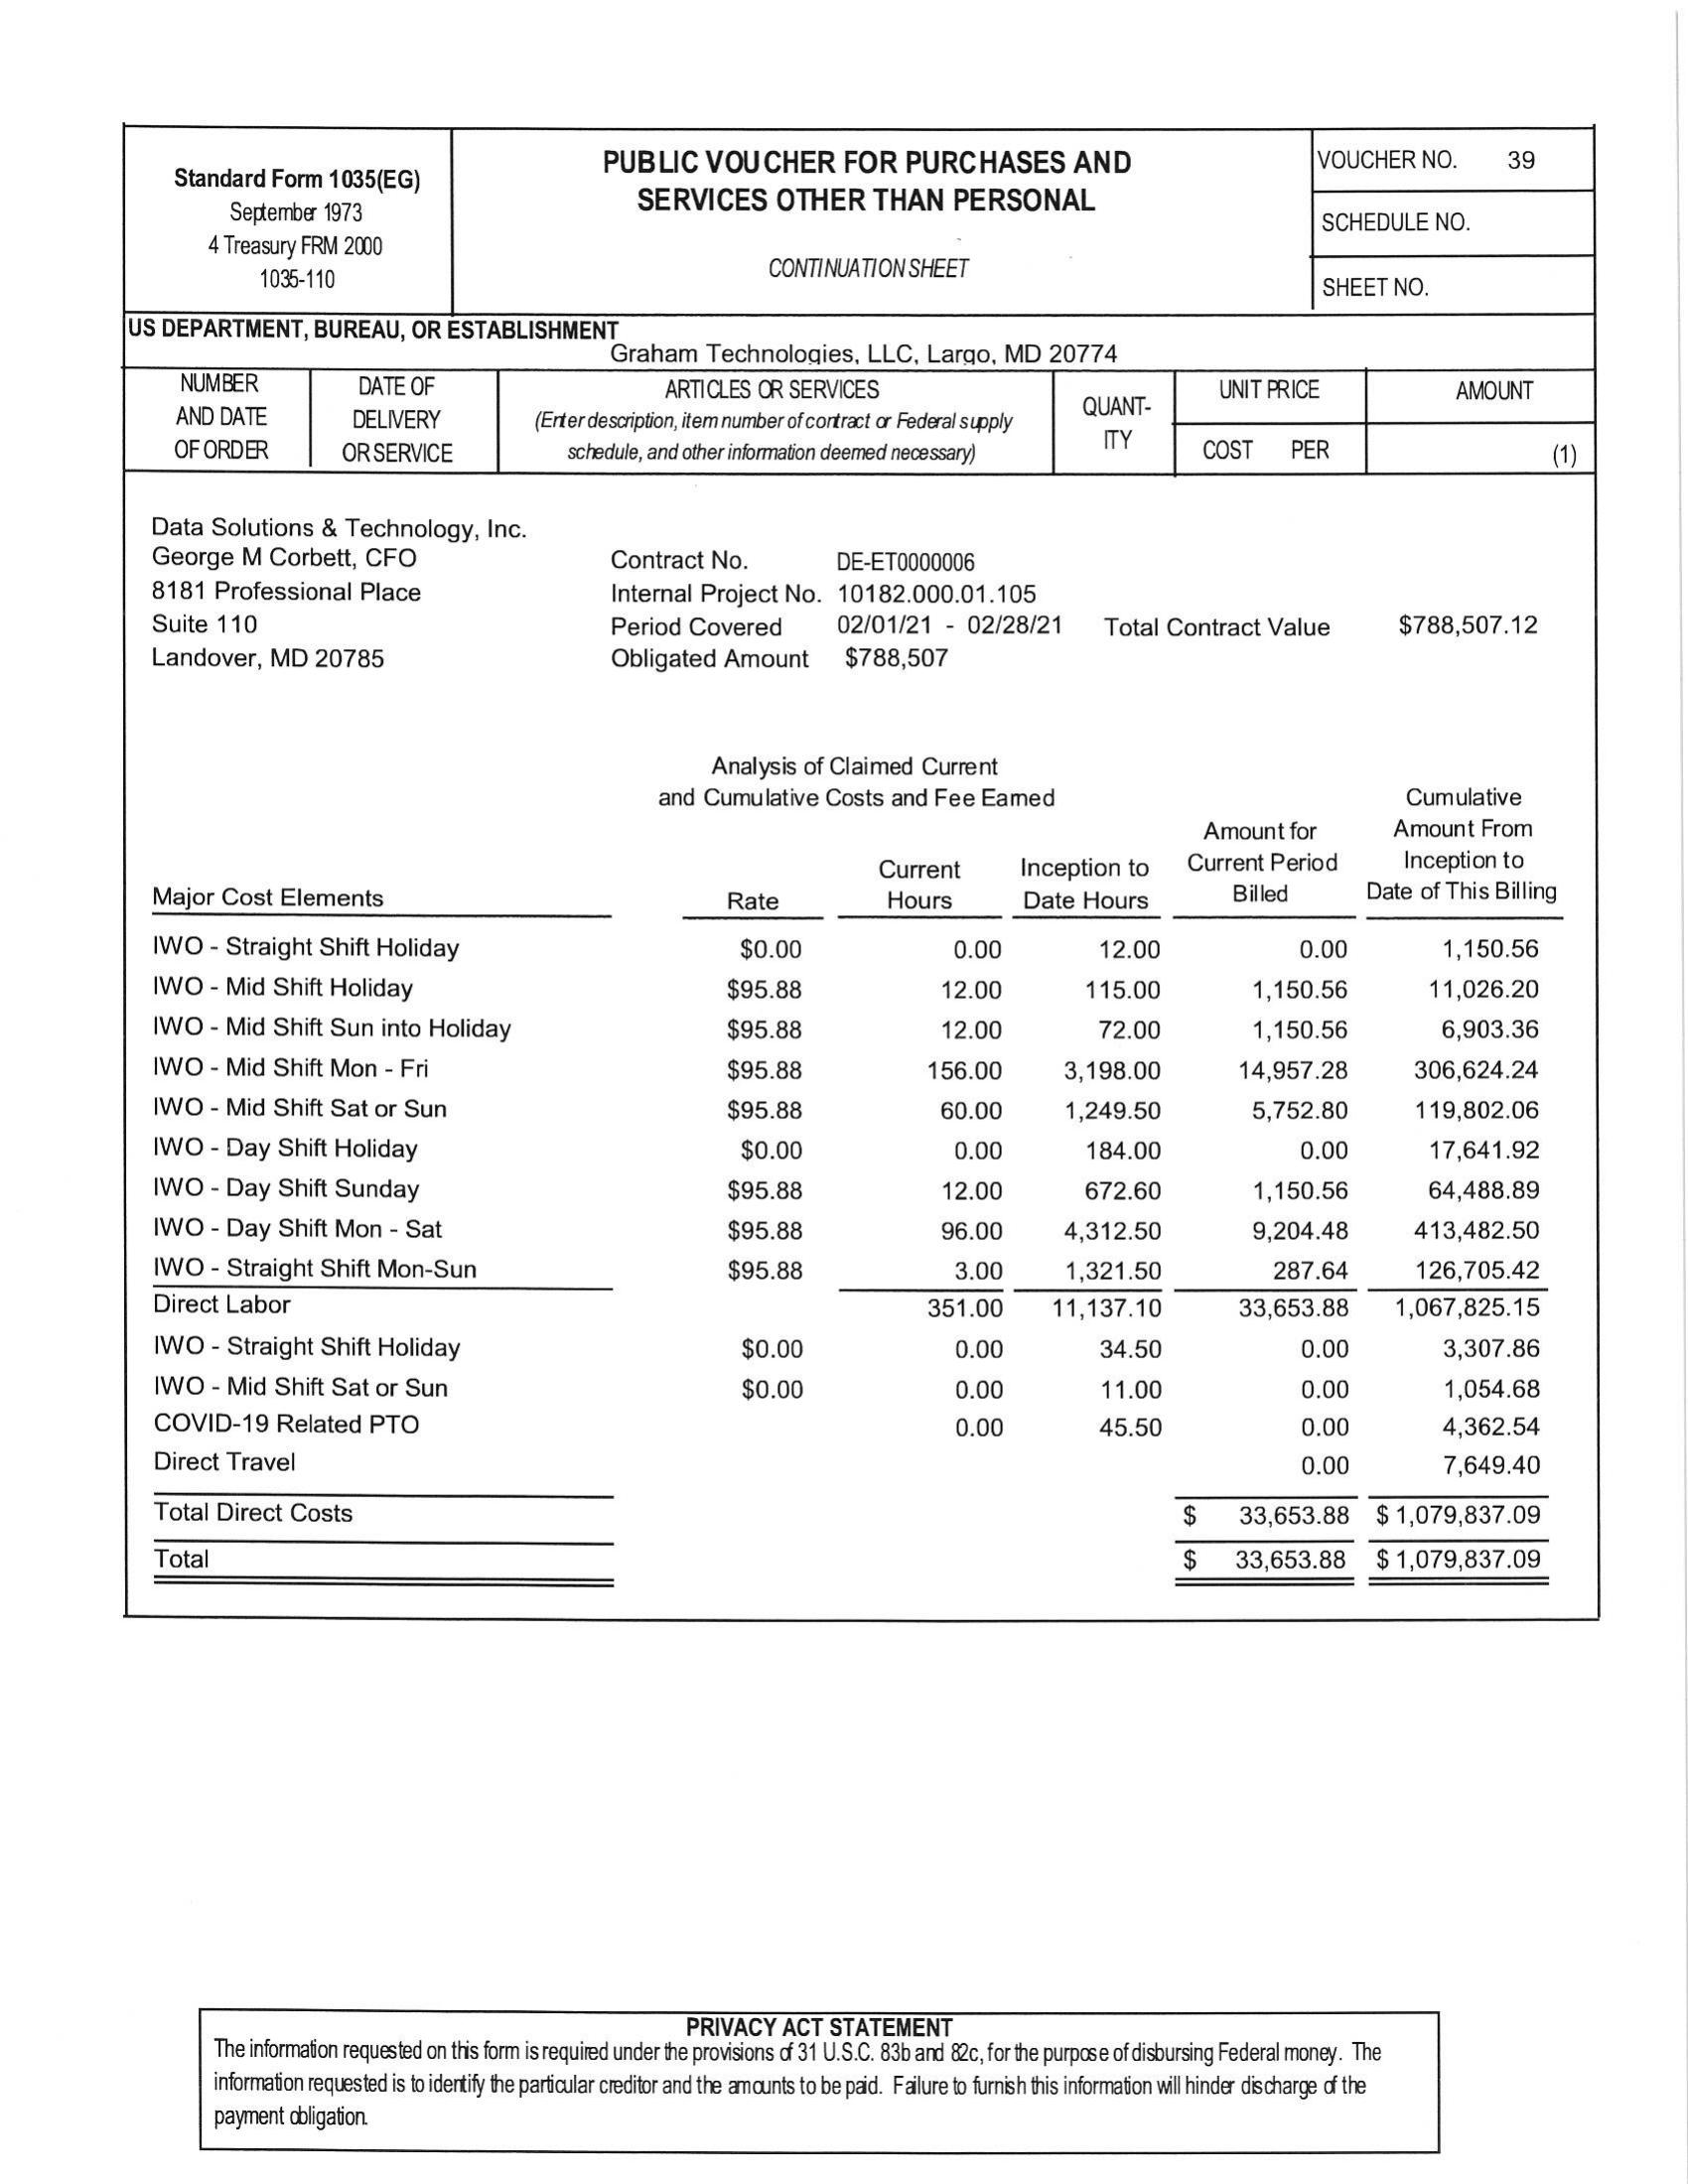table: (122, 752, 1594, 1482)
